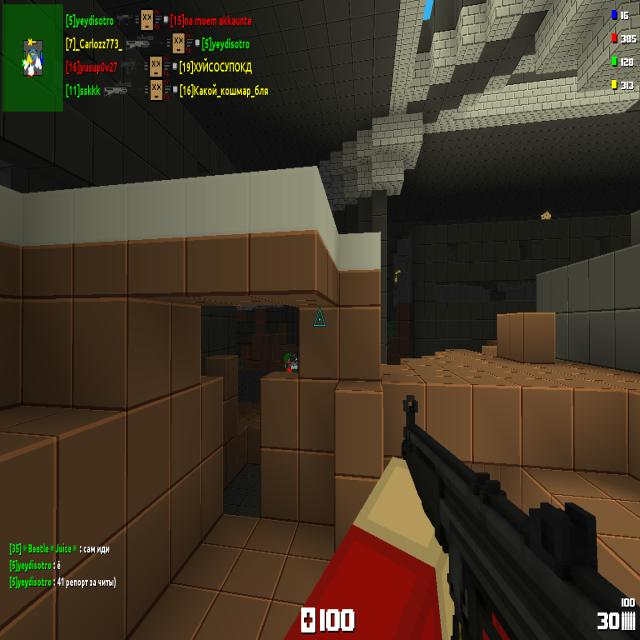enemy: (284, 352, 292, 373), (290, 352, 298, 373), (540, 209, 551, 220), (394, 269, 400, 283)
